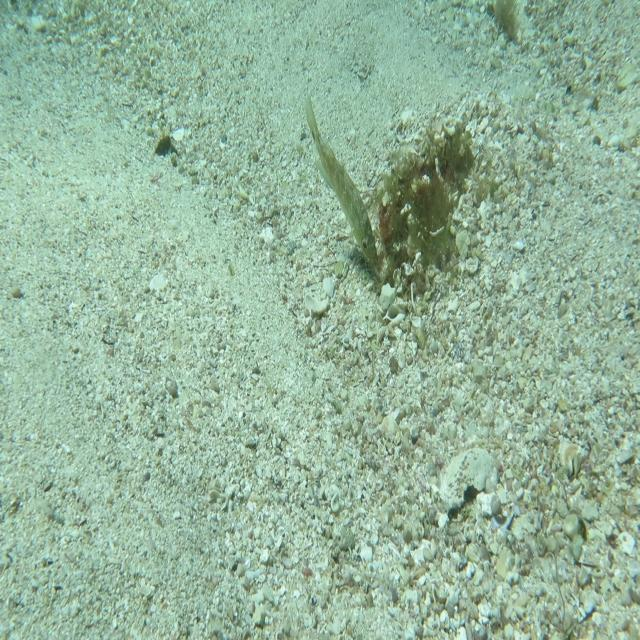AM: (304, 91, 378, 269)
core_nest: (436, 131, 472, 167)
nest: (375, 110, 492, 296)
nest_material: (371, 253, 384, 279)
vegetation: (490, 0, 527, 46), (154, 133, 174, 160)
